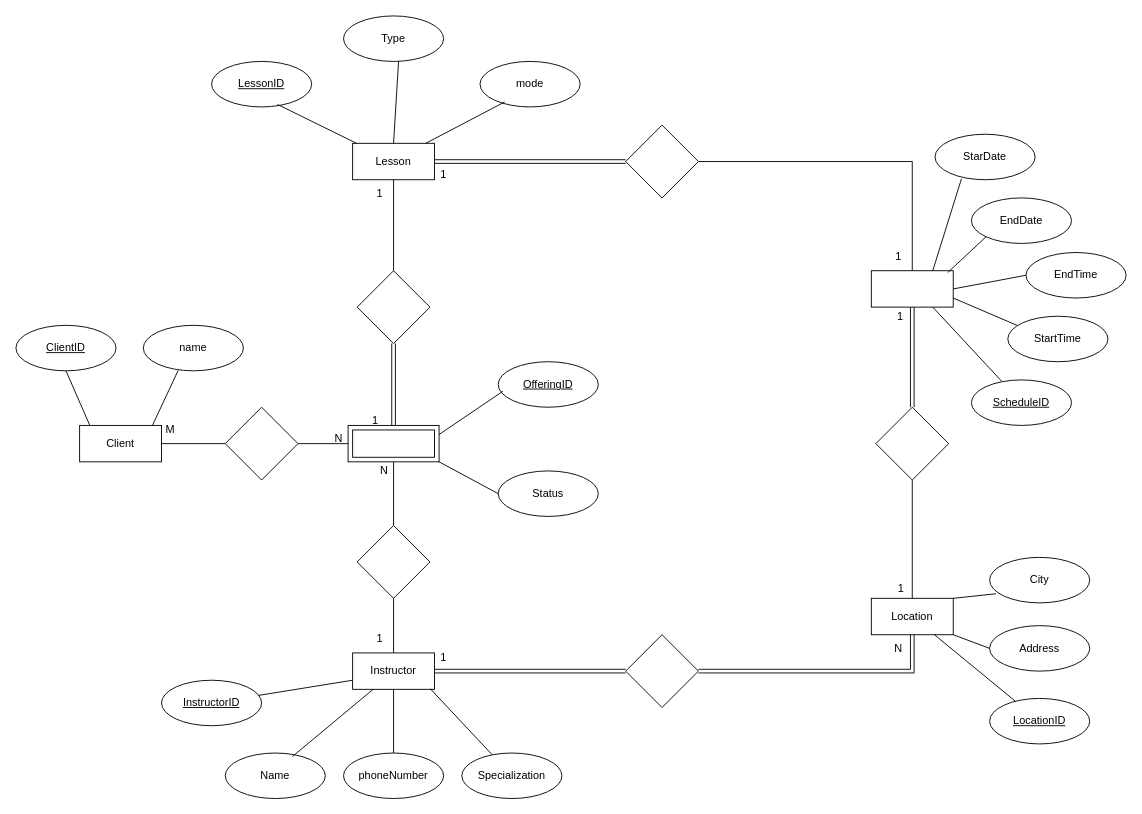
Some shapes in this 1142 by 814 pixel diagram are drawn without their labels. Here are the shapes that lost their labels. From the top down, the box of each, then its label:
(625, 124, 698, 198): During
(356, 270, 430, 344): Part Of
(870, 270, 953, 307): Schedule
(224, 406, 298, 480): Books
(347, 425, 439, 462): Offering
(875, 406, 949, 480): Takes place
(356, 525, 430, 598): Teaches
(625, 634, 698, 708): Available to work
